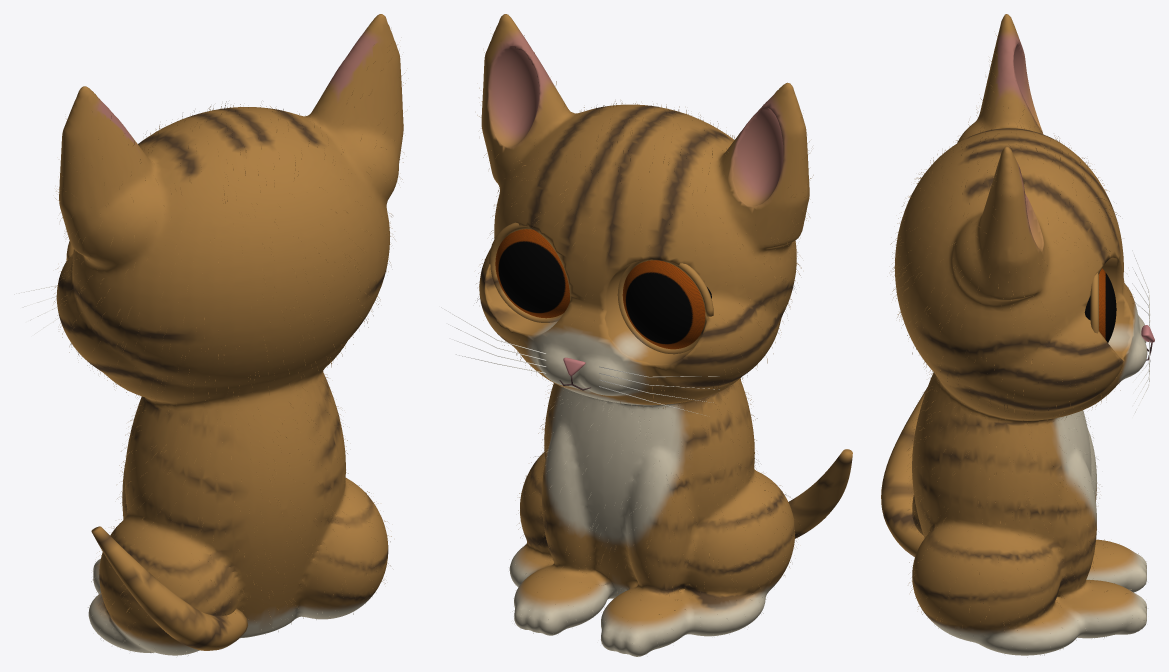
The model's file is fastrat_driver.glb.
3 views of the same model, side by side, from view 1: azimuth 30°, elevation 25°; view 2: azimuth 150°, elevation 25°; view 3: azimuth 270°, elevation 25° (orthographic). The views are drawn at different scales.
Parts seen in each view (by area): view 1: Continuous feline anatomy, Curled tail, Groomed short fur; view 2: Continuous feline anatomy, Curved inset eye.001, Curved inset eye, Curled tail, Soft anatomical eyelid.001, Groomed short fur, Soft anatomical eyelid; view 3: Continuous feline anatomy, Curled tail, Groomed short fur, Curved inset eye, Soft anatomical eyelid.
Boxes of the visible parts, x1,y1,x2,y2 form: Continuous feline anatomy: [56, 14, 403, 655]; Curled tail: [91, 526, 247, 650]; Groomed short fur: [54, 44, 405, 655]; Continuous feline anatomy: [479, 14, 809, 656]; Curved inset eye.001: [622, 260, 711, 349]; Curved inset eye: [495, 229, 569, 318]; Curled tail: [788, 449, 852, 538]; Soft anatomical eyelid.001: [617, 259, 713, 354]; Groomed short fur: [476, 34, 813, 654]; Soft anatomical eyelid: [488, 222, 563, 322]; Continuous feline anatomy: [894, 14, 1147, 655]; Curled tail: [881, 387, 927, 557]; Groomed short fur: [890, 35, 1146, 657]; Curved inset eye: [1084, 268, 1116, 342]; Soft anatomical eyelid: [1090, 273, 1098, 333].
Size of the model in its own units: 0.9766 by 1.54 by 0.7154.
Materials: 6 (2 with a texture image).
